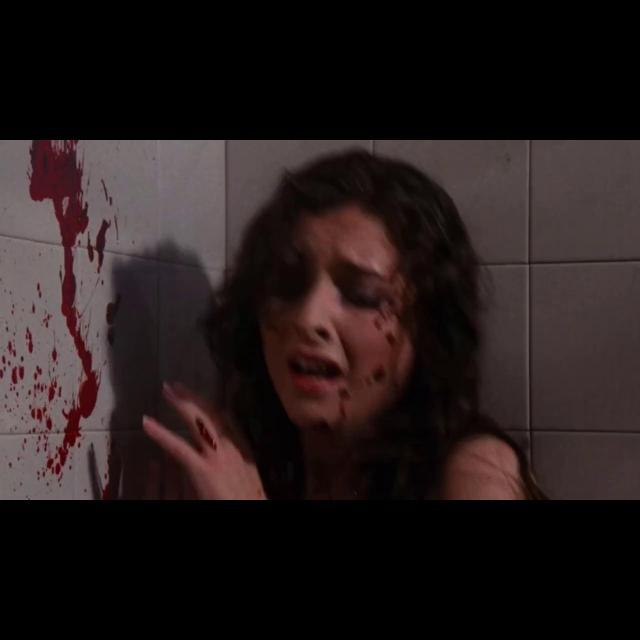blood: (298, 210, 415, 438), (28, 140, 98, 474), (0, 246, 82, 480), (94, 218, 110, 272), (196, 418, 212, 444)
